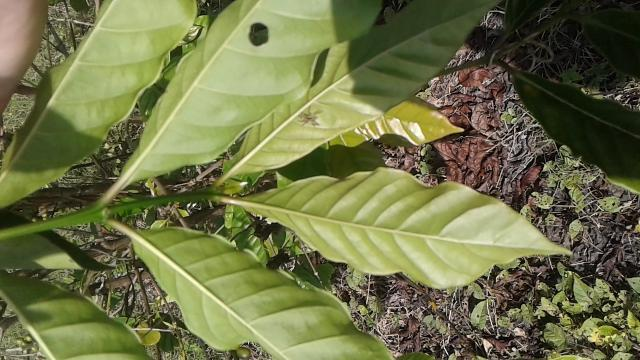healthy: (230, 163, 578, 290)
